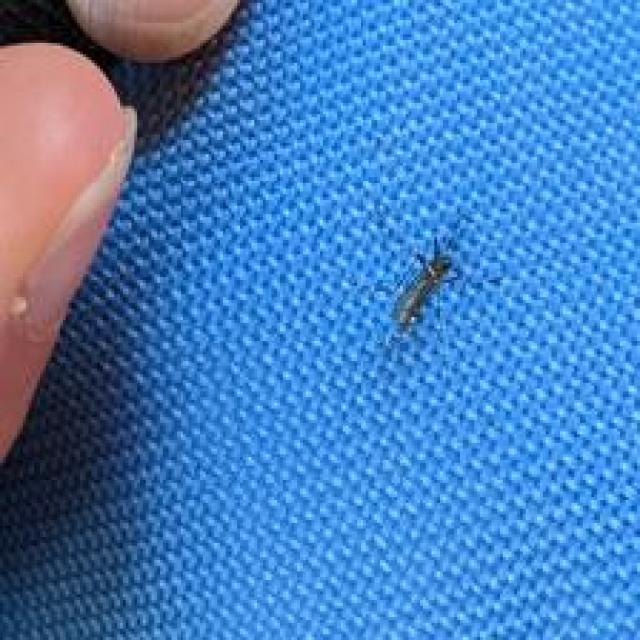Aedes albopictus: (387, 233, 456, 336)
